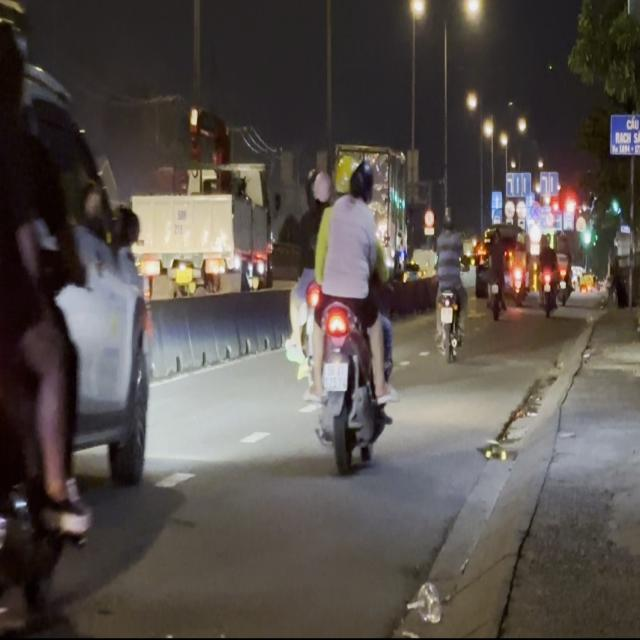helmet: (349, 158, 374, 202), (332, 154, 354, 196), (310, 168, 332, 206)
licenseplate: (0, 7, 150, 634), (292, 152, 396, 470)
nohelmet: (322, 361, 347, 390)
